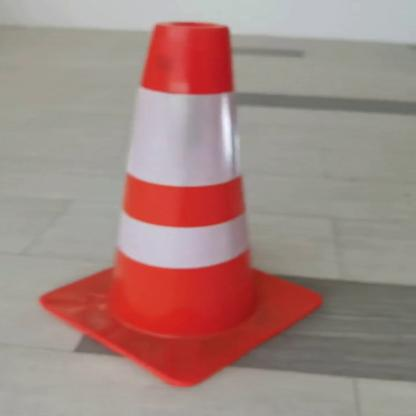cone: (41, 13, 341, 390)
